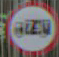Heavy Vehicles: (5, 4, 53, 45)
